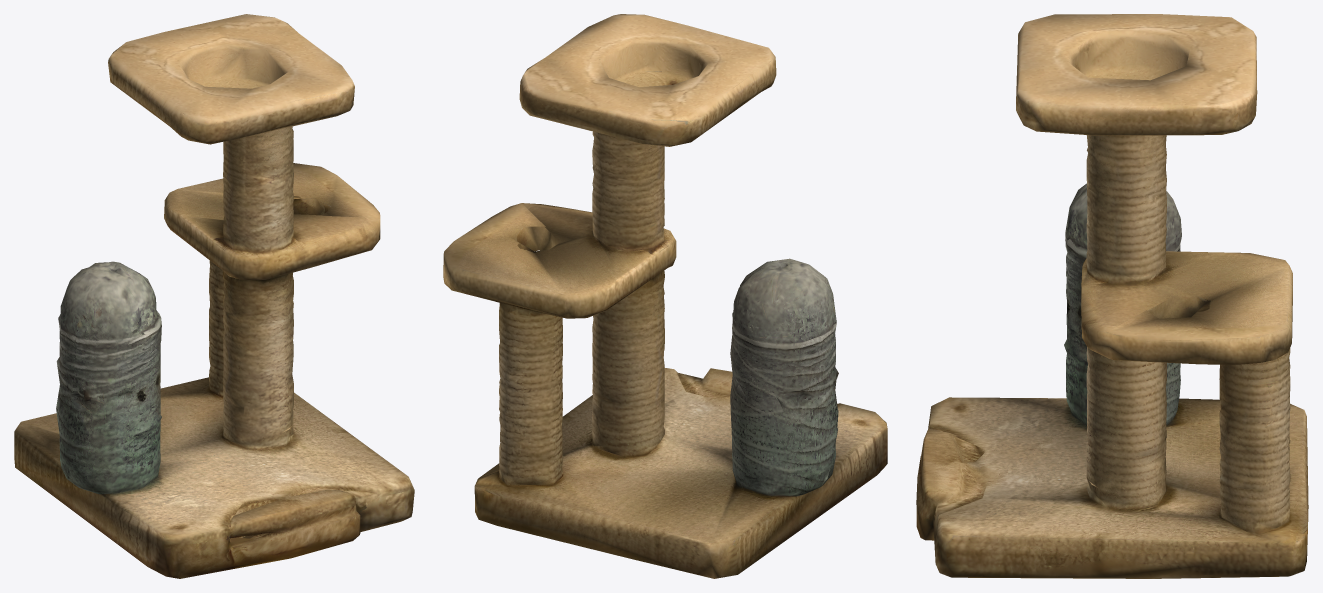
File: Meshy_AI_Mini_Cat_Tree_0610213541_texture.fbx
The picture shows the model from 3 angles, left to right: view 1: azimuth 30°, elevation 25°; view 2: azimuth 150°, elevation 25°; view 3: azimuth 270°, elevation 25°; orthographic projection. The views are drawn at different scales.
Visible parts, largest first — view 1: Mesh_0; view 2: Mesh_0; view 3: Mesh_0.
Part boxes in pixels (box(x1,y1,x2,y2)): Mesh_0: box(14, 14, 414, 578); Mesh_0: box(443, 14, 887, 578); Mesh_0: box(916, 14, 1308, 578).
Bounding box in the file's own units: 154 × 191 × 145.
Materials: 1 (1 with a texture image).
